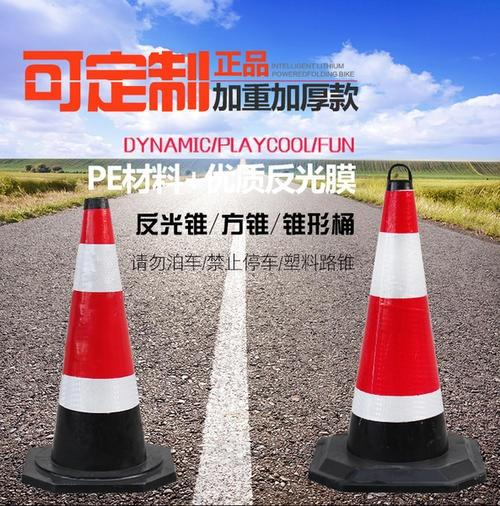cone_barrel: (334, 174, 459, 471), (34, 203, 164, 487)
